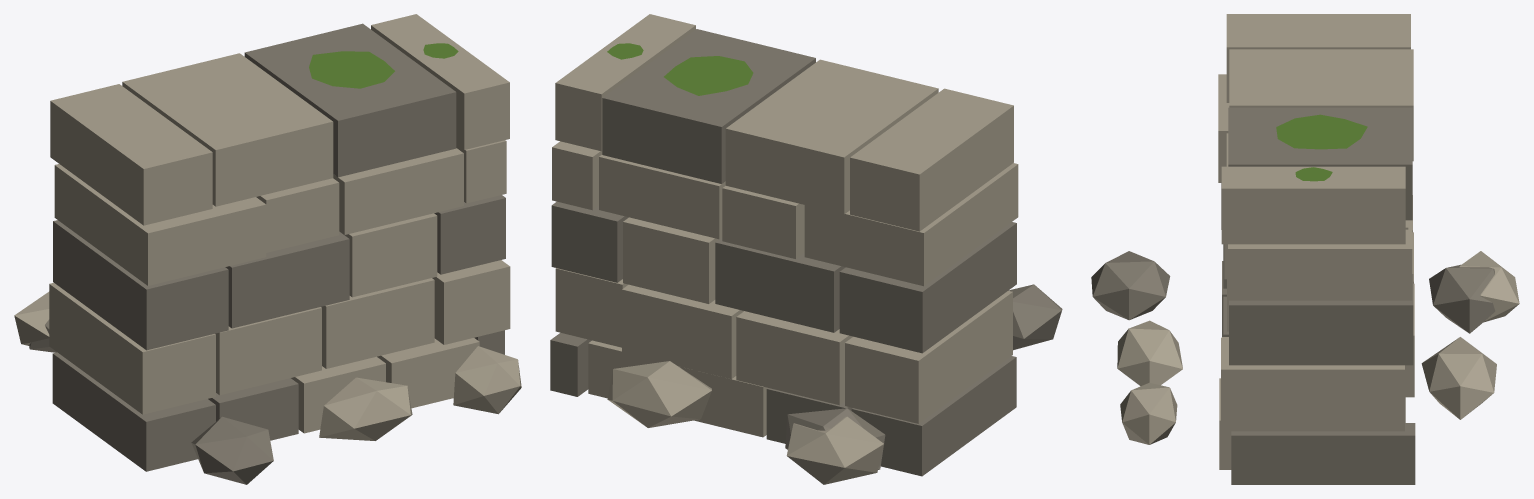
File: RuinWallB.glb
The picture shows the model from 3 angles, left to right: view 1: azimuth 30°, elevation 25°; view 2: azimuth 150°, elevation 25°; view 3: azimuth 270°, elevation 25°; orthographic projection. The views are drawn at different scales.
Parts seen in each view (by area): view 1: RuinWallB.stone, RuinWallB.stoneDark, RuinWallB.moss; view 2: RuinWallB.stone, RuinWallB.stoneDark, RuinWallB.moss; view 3: RuinWallB.stone, RuinWallB.stoneDark, RuinWallB.moss.
Part boxes in pixels (x1,y1,x2,y2): RuinWallB.stone: (14,14,521,440); RuinWallB.stoneDark: (29,23,505,484); RuinWallB.moss: (309,43,458,88); RuinWallB.stone: (552,14,1018,484); RuinWallB.stoneDark: (550,29,1062,476); RuinWallB.moss: (607,43,753,95); RuinWallB.stone: (1117,14,1519,469); RuinWallB.stoneDark: (1091,107,1495,484); RuinWallB.moss: (1276,114,1367,181).
Size of the model in its own units: 4.95 by 3.98 by 5.12.
